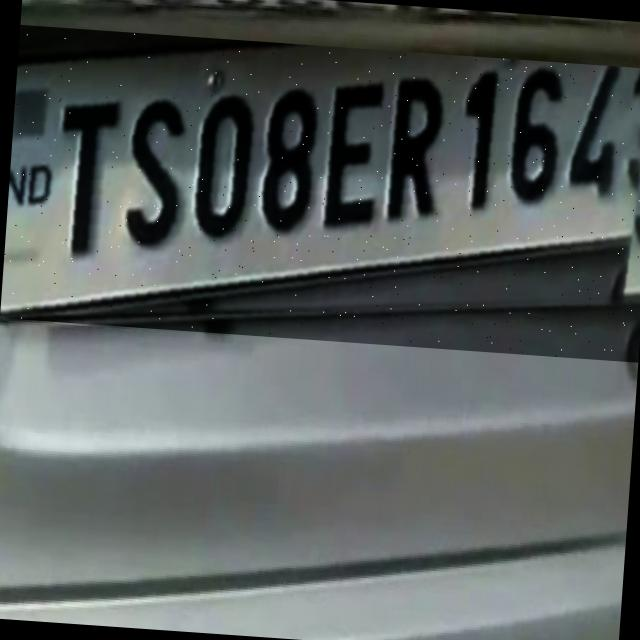Plate: (1, 25, 640, 363)
